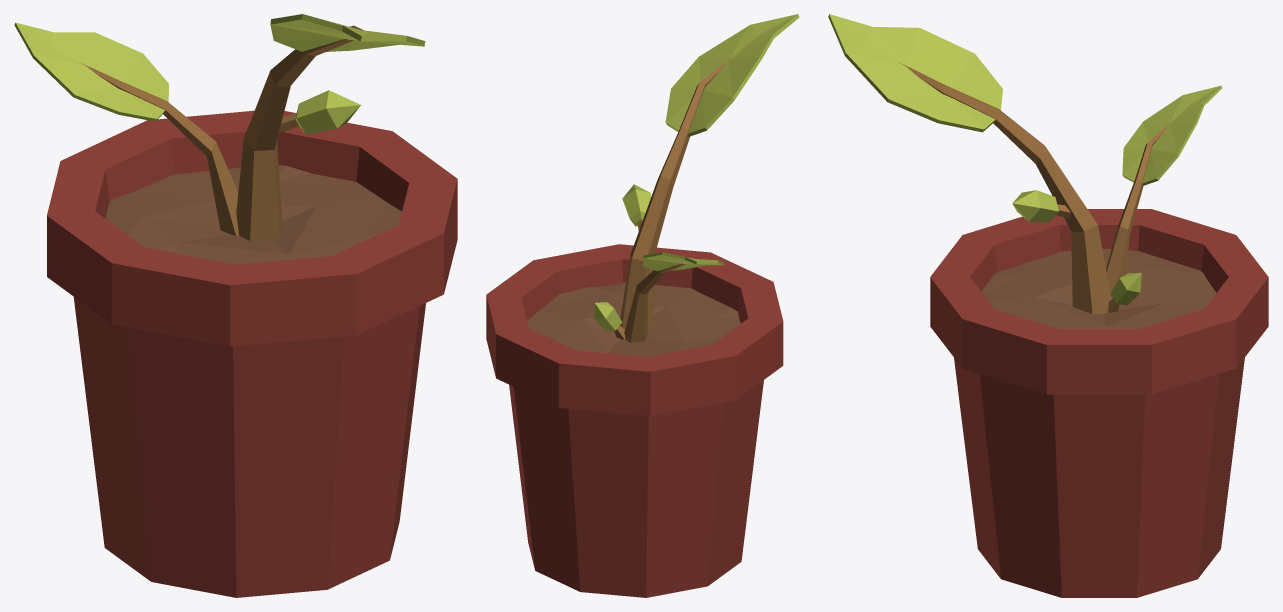
Rendered from plant_element.fbx.
3 renders of one model, left to right at view 1: azimuth 30°, elevation 25°; view 2: azimuth 150°, elevation 25°; view 3: azimuth 270°, elevation 25°, orthographic. The views are drawn at different scales.
Parts seen in each view (by area): view 1: pflanze_element; view 2: pflanze_element; view 3: pflanze_element.
Boxes of the visible parts, x1,y1,x2,y2 form: pflanze_element: (14, 14, 457, 597); pflanze_element: (486, 14, 799, 597); pflanze_element: (828, 14, 1268, 597).
Size of the model in its own units: 215 by 378 by 295.
